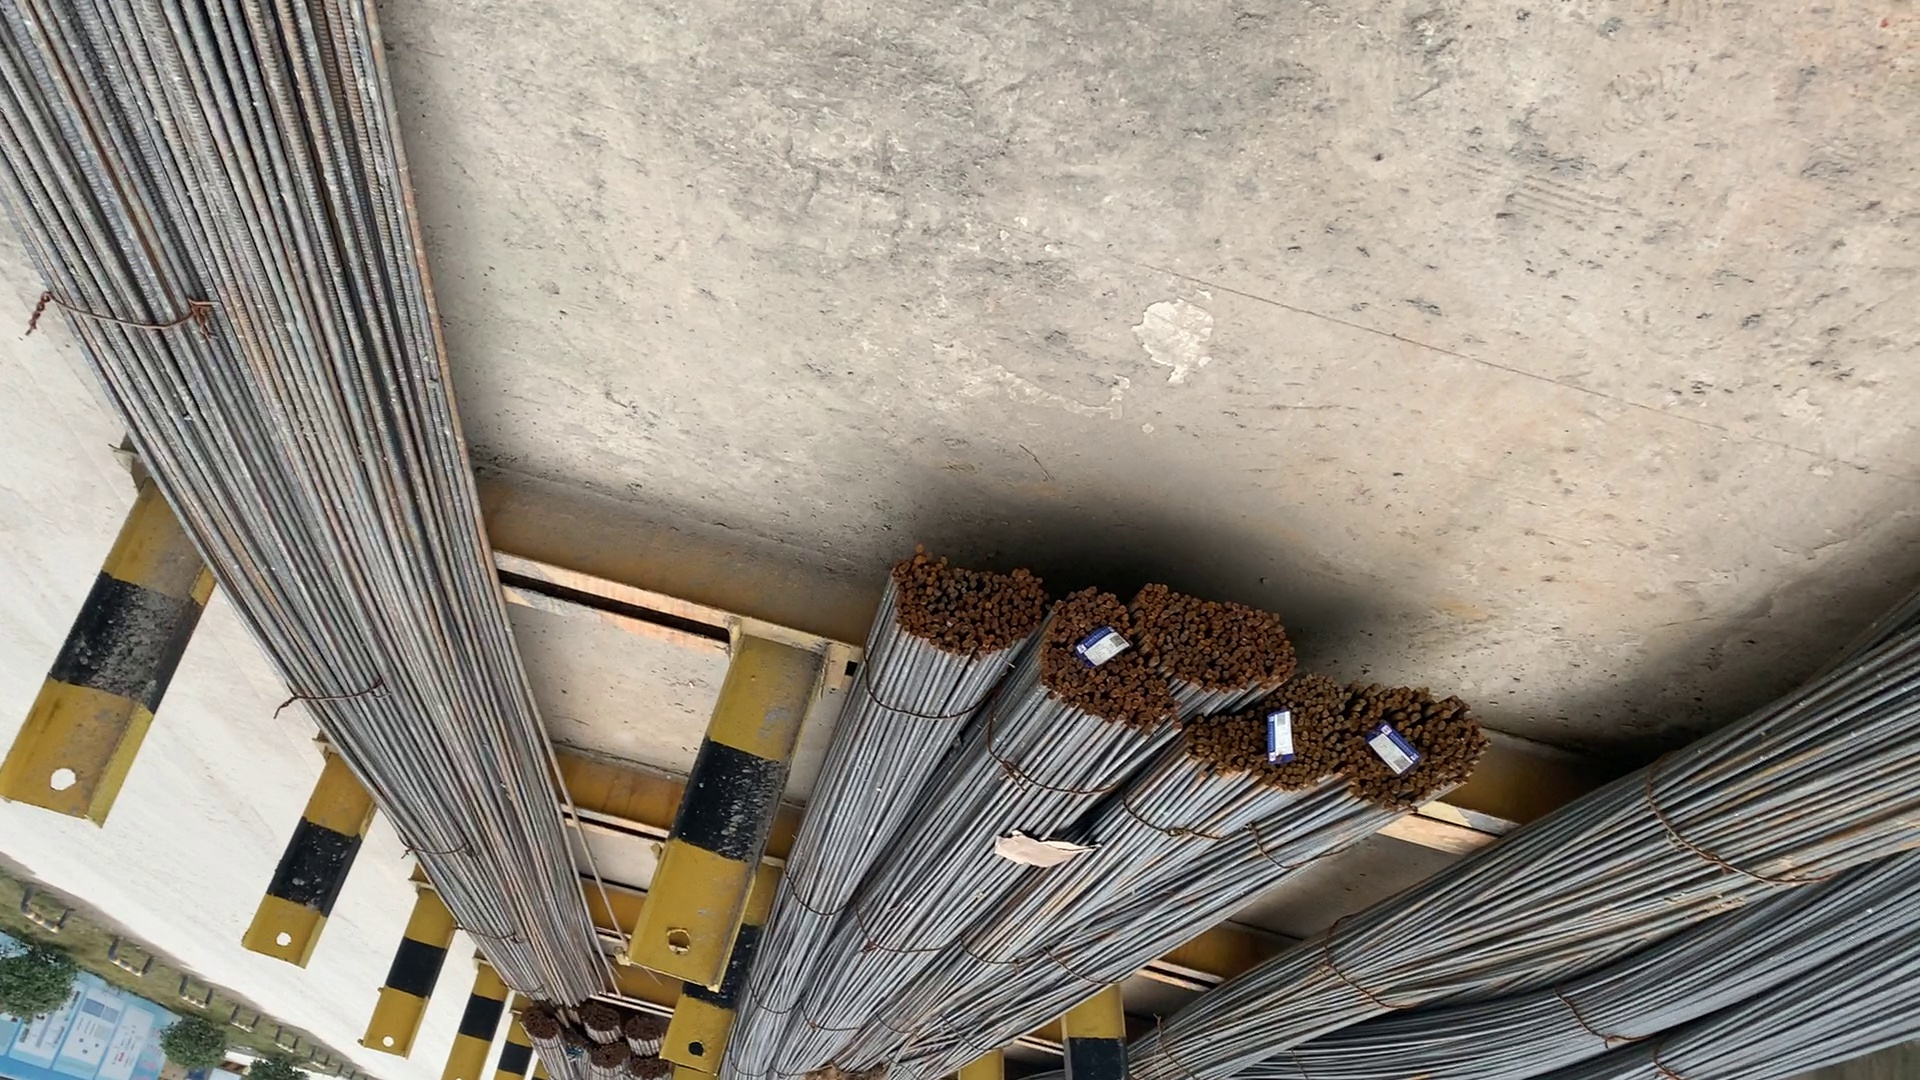rebar: (1150, 584, 1291, 696), (889, 556, 1031, 665), (1353, 691, 1485, 807), (1046, 597, 1154, 738), (1185, 699, 1342, 793)
